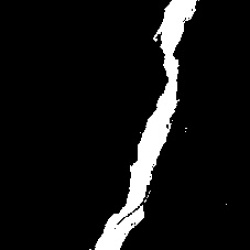crack: (95, 3, 198, 248)
